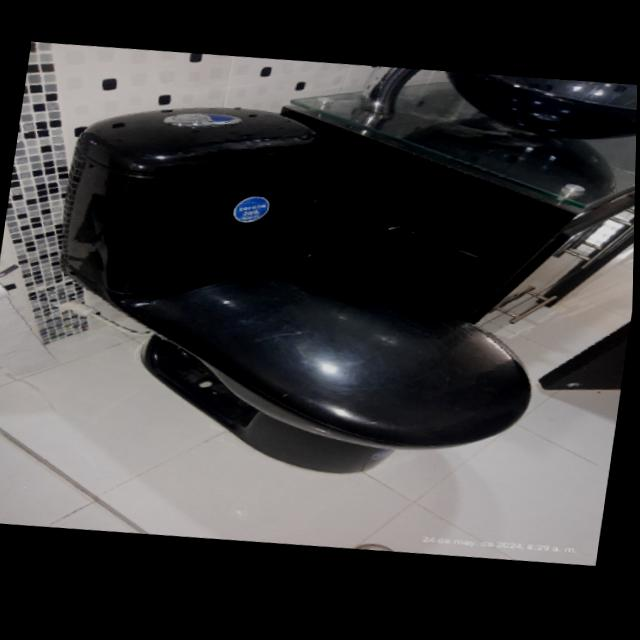toilet: (29, 76, 571, 512)
